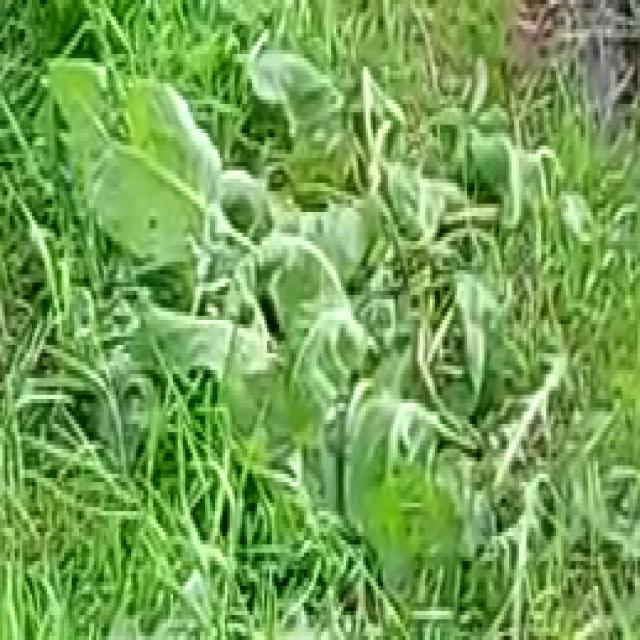organic waste: (42, 0, 381, 445), (286, 104, 502, 582)
